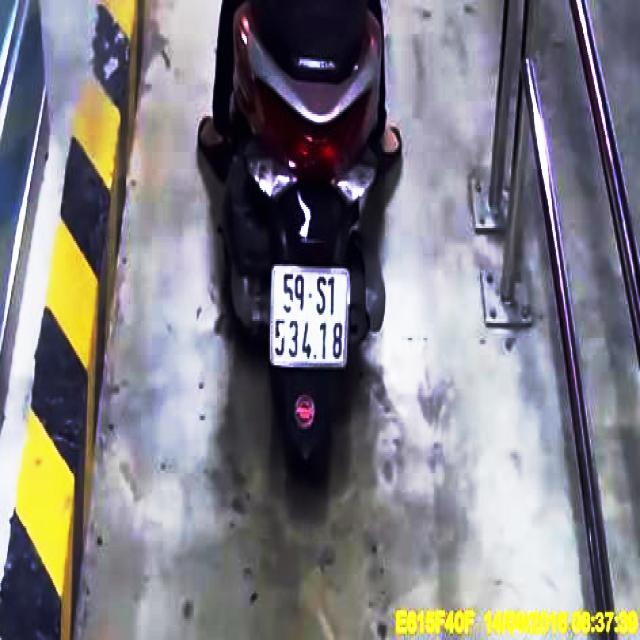license_plate: (272, 264, 350, 368)
